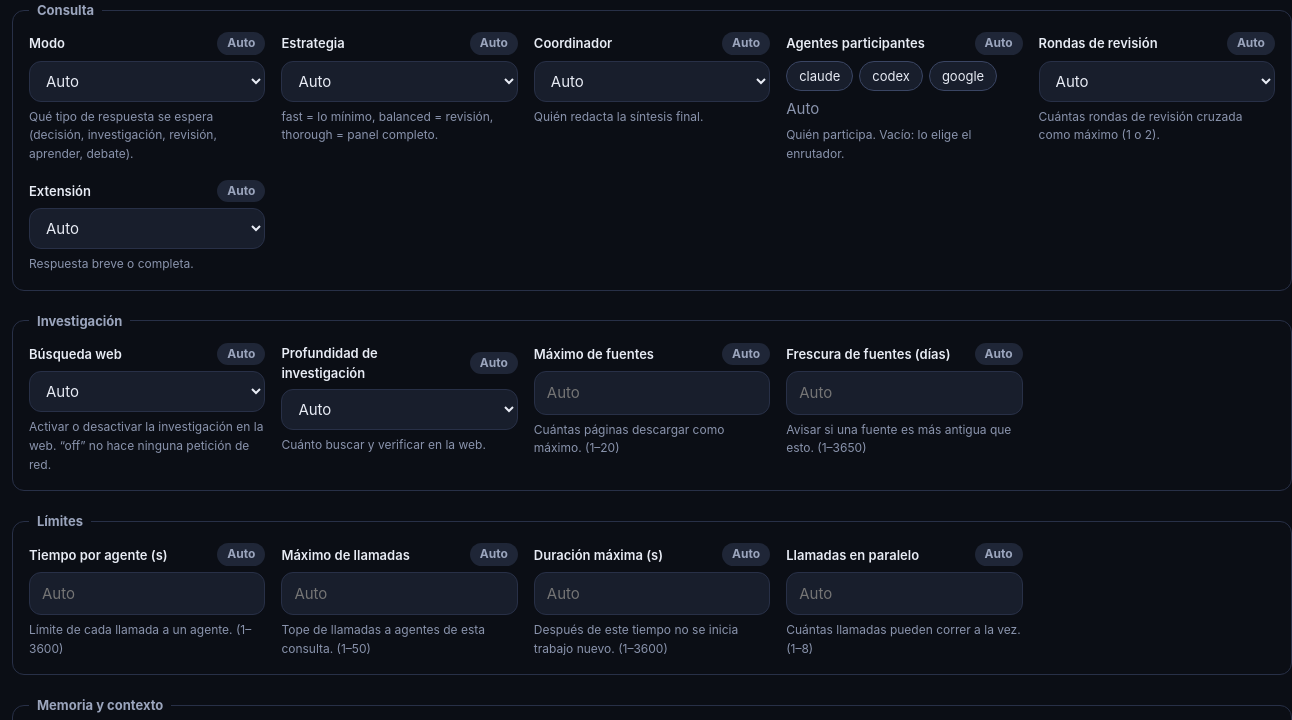
Test: settings panel › numbers carry their bounds and become integers; clearing returns to Auto
Type "7" into the number field labelled "Máximo de fuentes" at (652, 393), box [534,371,770,415]
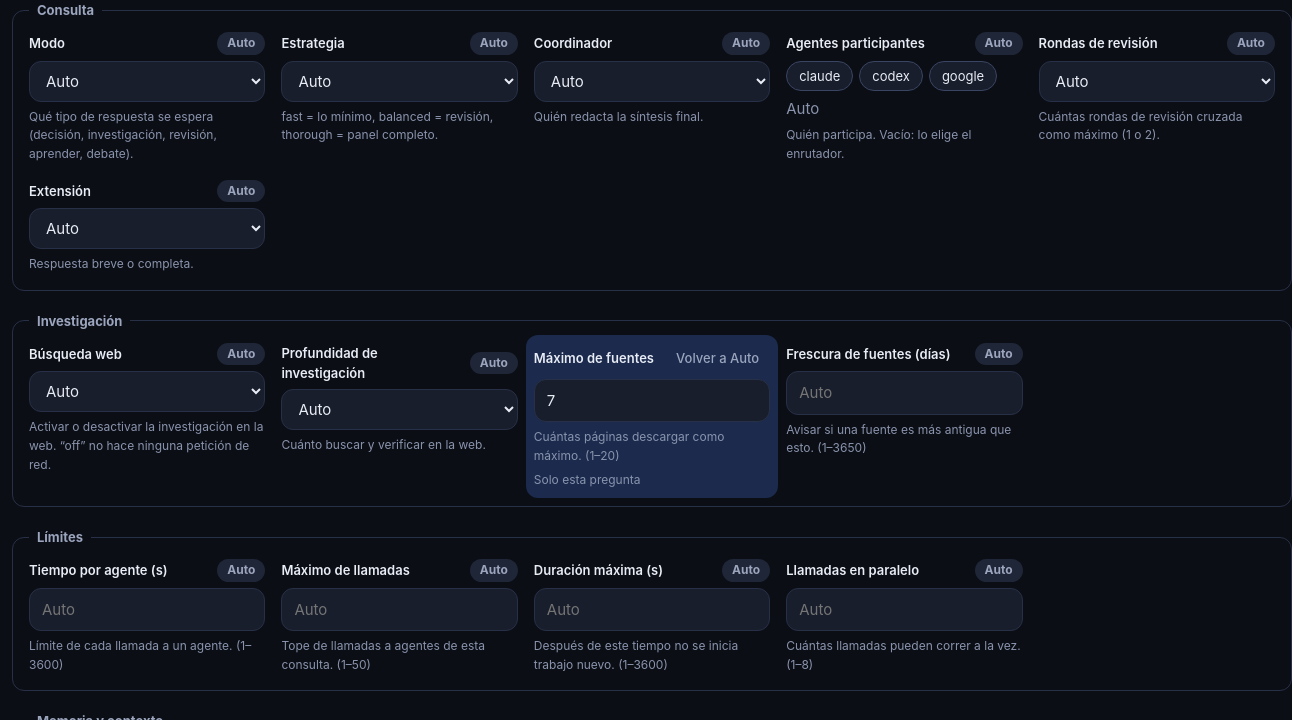
Clear the number field labelled "Máximo de fuentes" at (652, 401), box [534,379,770,422]
(page scrolled)
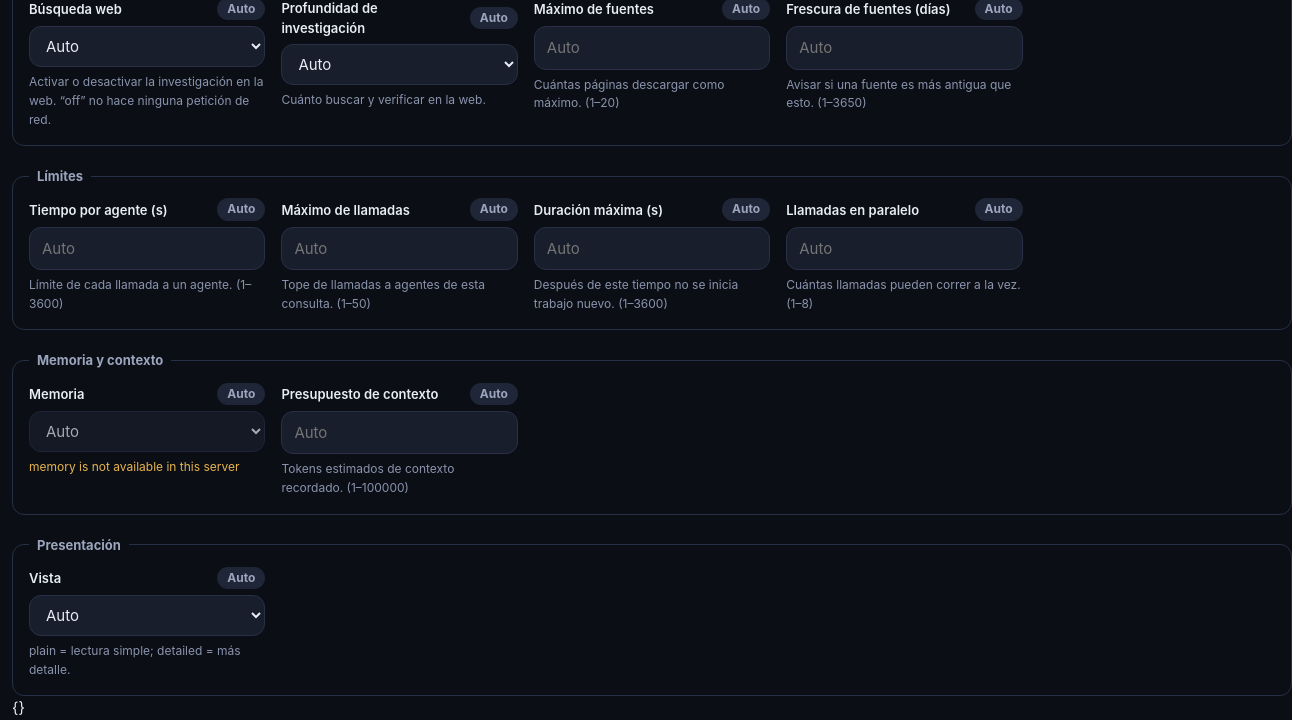
Now the text with test id "value" reads "{}", box [12,698,25,718]
